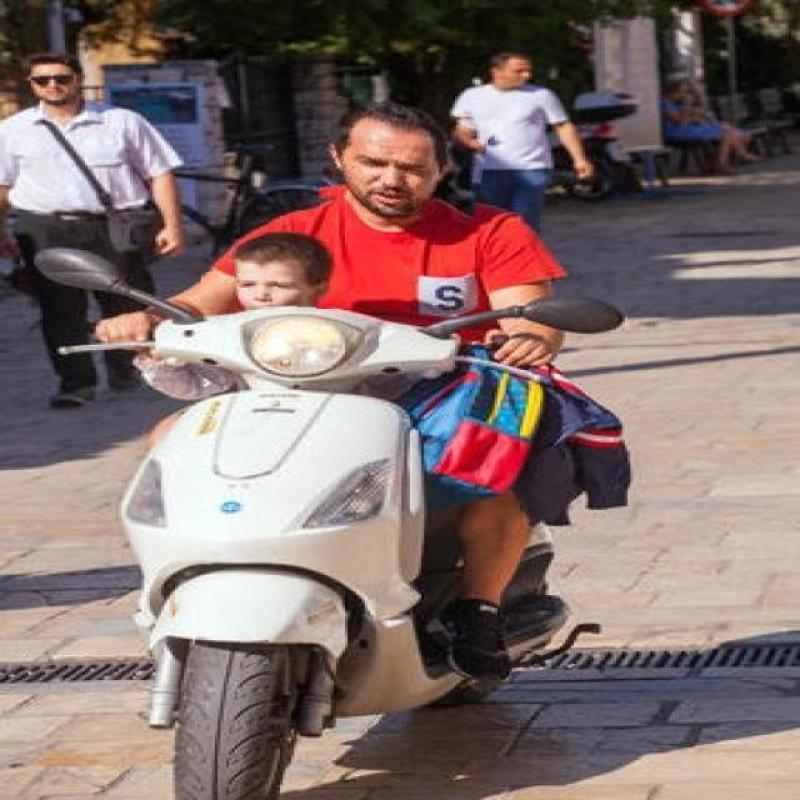nohelmet: (322, 102, 488, 219), (201, 239, 336, 307)
